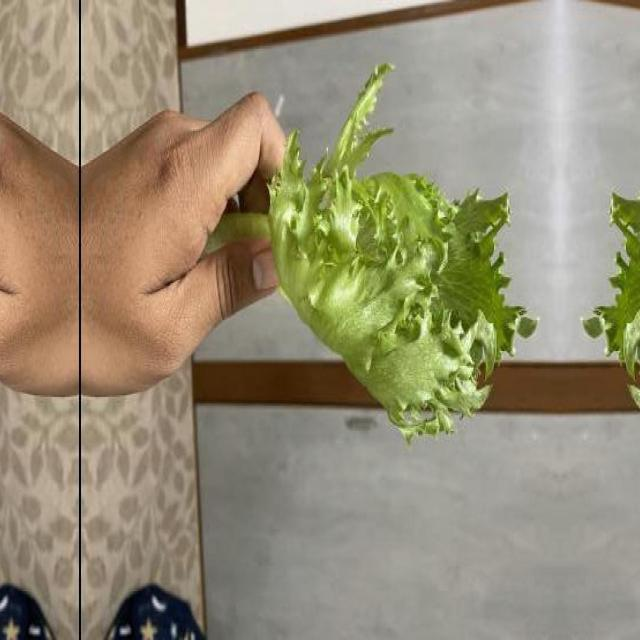healthy: (254, 52, 536, 446), (583, 52, 640, 445)
